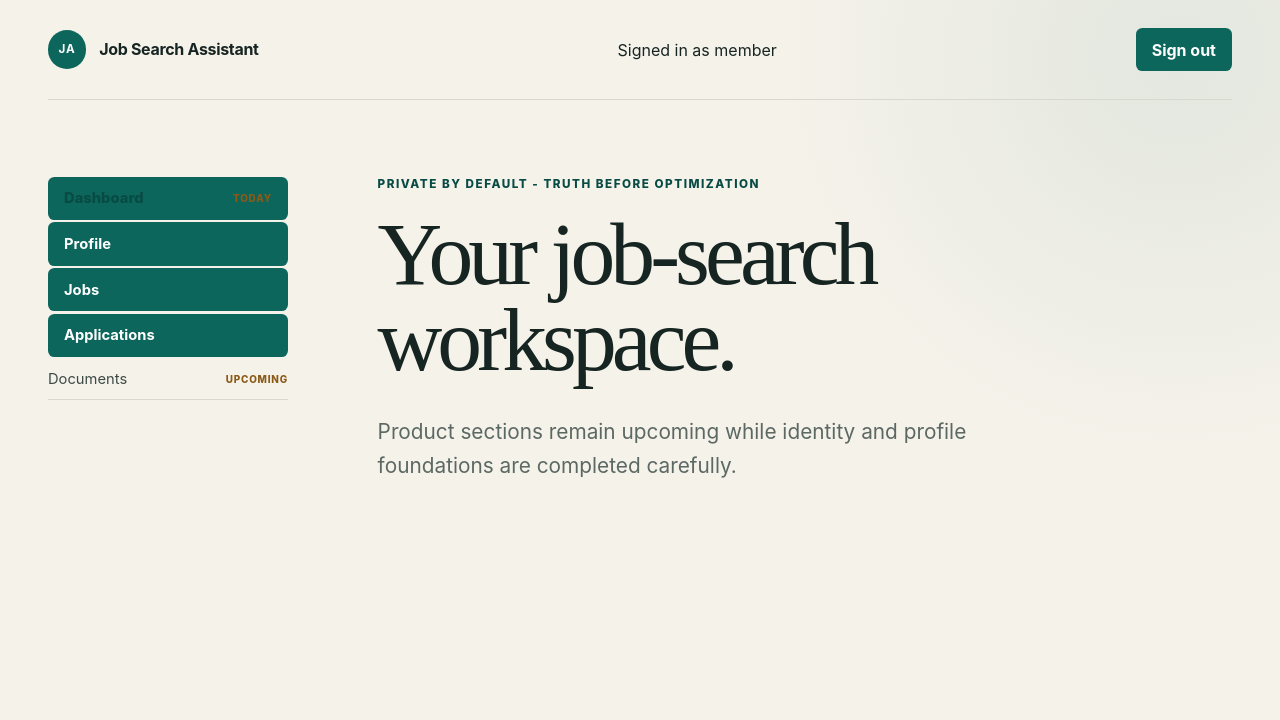
Test: authentication experience › logs out and returns to login
Click the button "Sign out": (1184, 50) [1136,28,1232,71]
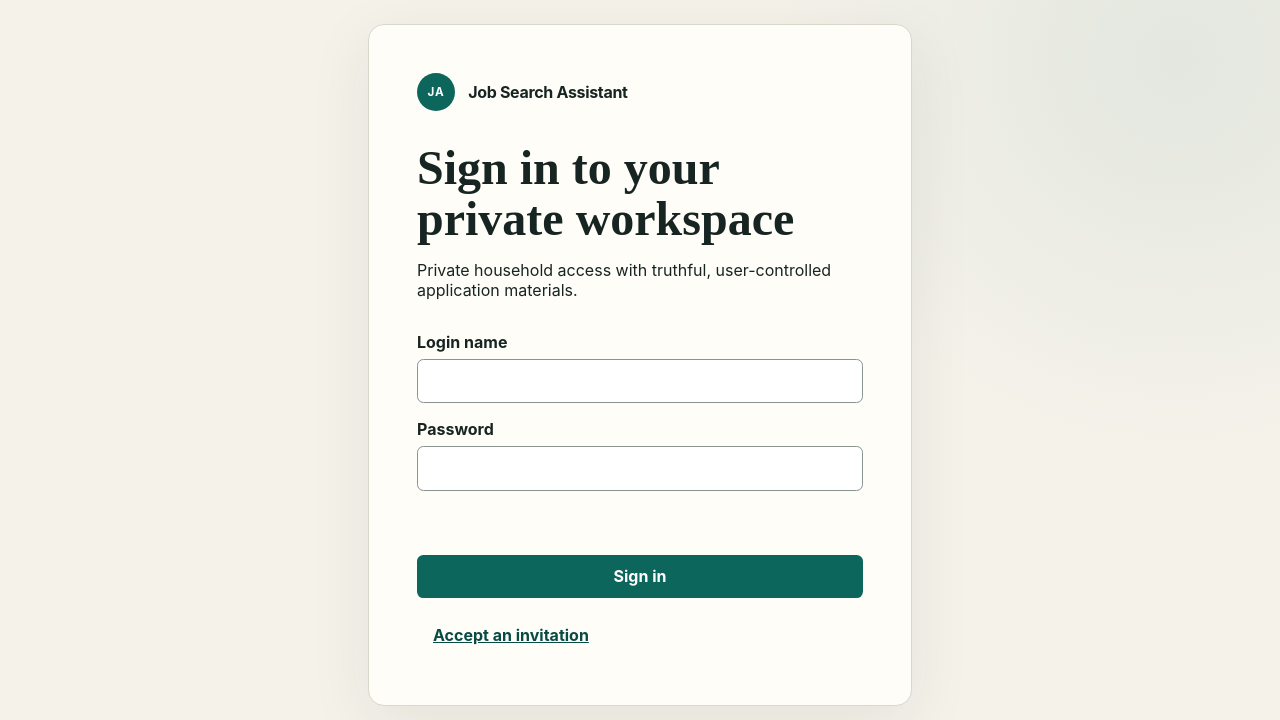
Check: the heading "Sign in to your private workspace" is shown, box [417,141,794,245]
